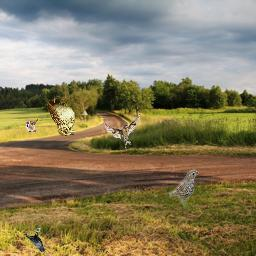Crow: (25, 228, 46, 252)
Sparrow: (169, 169, 199, 209), (47, 96, 75, 136), (26, 119, 38, 132)
Swallow: (104, 113, 140, 149)
